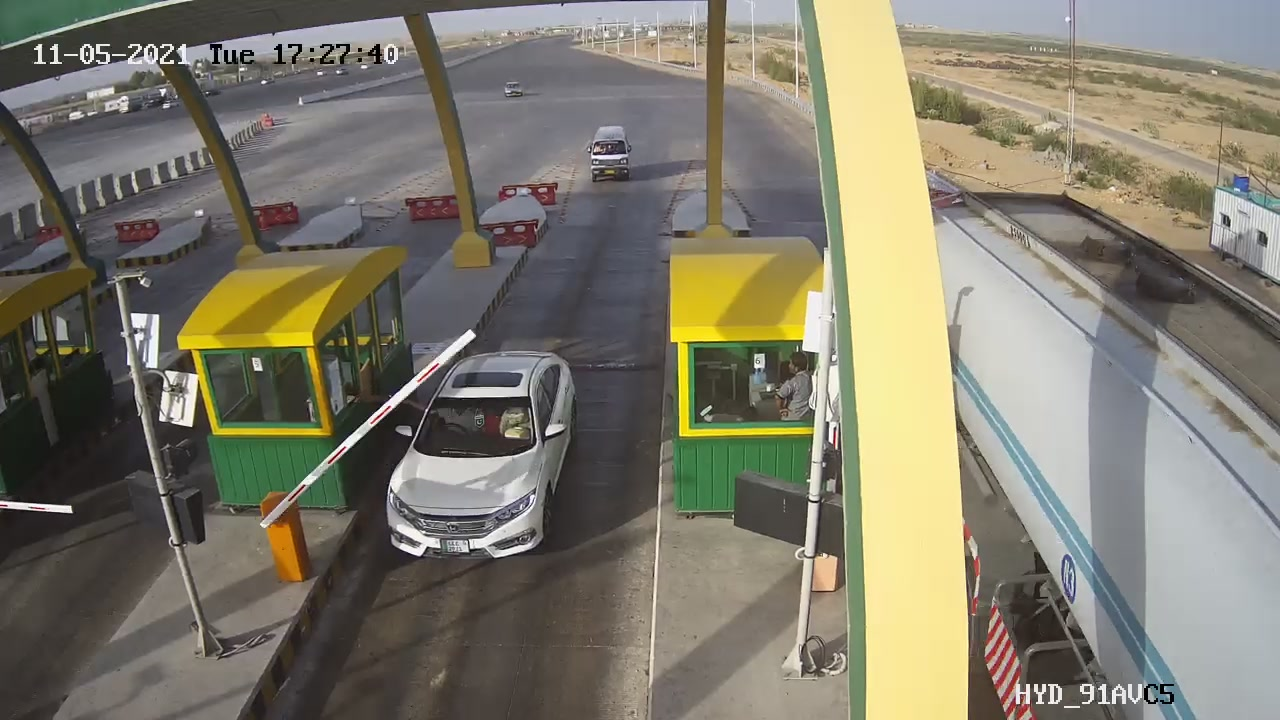F1: (370, 325, 599, 587)
